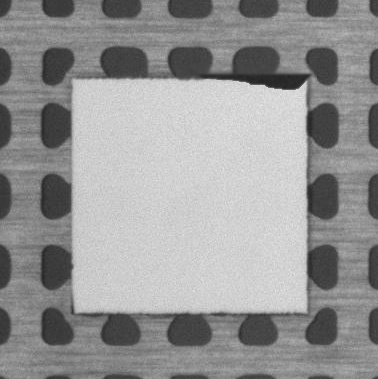DIE_BROKEN: (201, 72, 312, 90)
